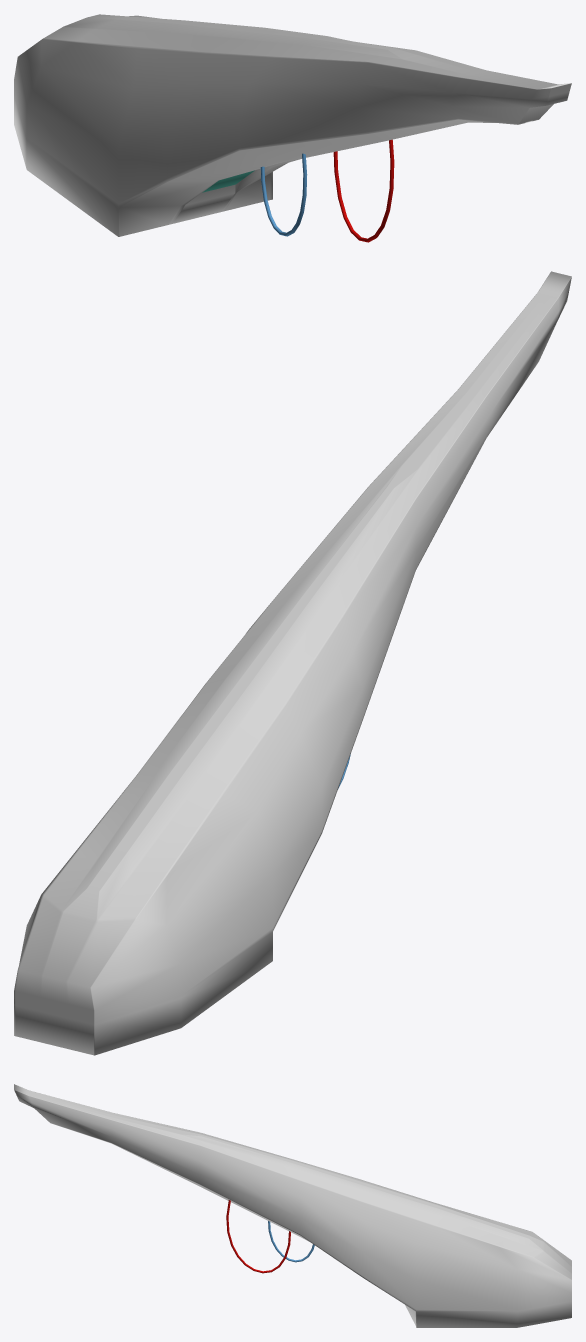
The model's file is turret.fbx.
The picture shows the model from 3 angles, top to bottom: view 1: azimuth 30°, elevation 25°; view 2: azimuth 150°, elevation 25°; view 3: azimuth 270°, elevation 25°; orthographic projection. The views are drawn at different scales.
Visible parts, largest first — view 1: turret, Cable_1, Cable_2; view 2: turret; view 3: turret, Cable_1.
Boxes of the visible parts, x1=… form: turret: x1=14, y1=14, x2=571, y2=236; Cable_1: x1=333, y1=139, x2=394, y2=242; Cable_2: x1=260, y1=153, x2=307, y2=236; turret: x1=14, y1=271, x2=571, y2=1055; turret: x1=14, y1=1084, x2=571, y2=1327; Cable_1: x1=226, y1=1200, x2=290, y2=1273.
Bounding box in the file's own units: 334 × 827 × 1898.
